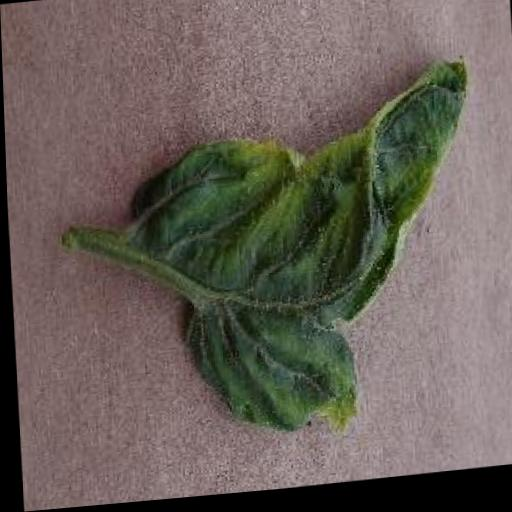Yellow Leaf Curl Virus: (120, 64, 485, 450)
